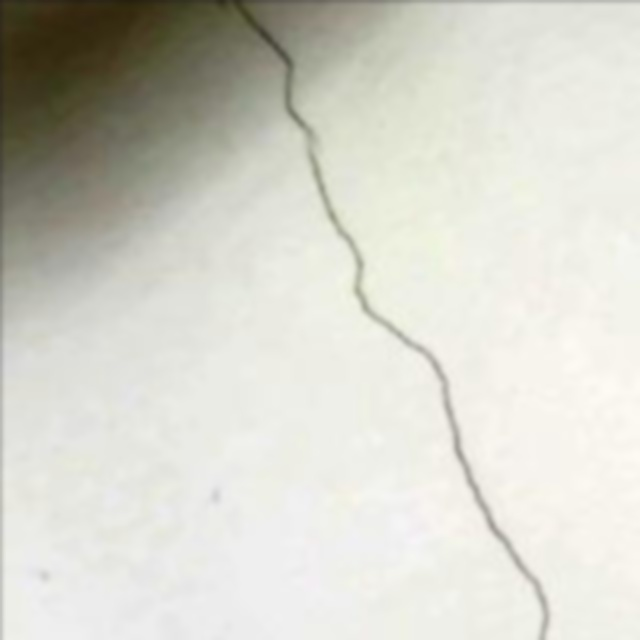SurfaceCrack: (212, 0, 570, 640)
